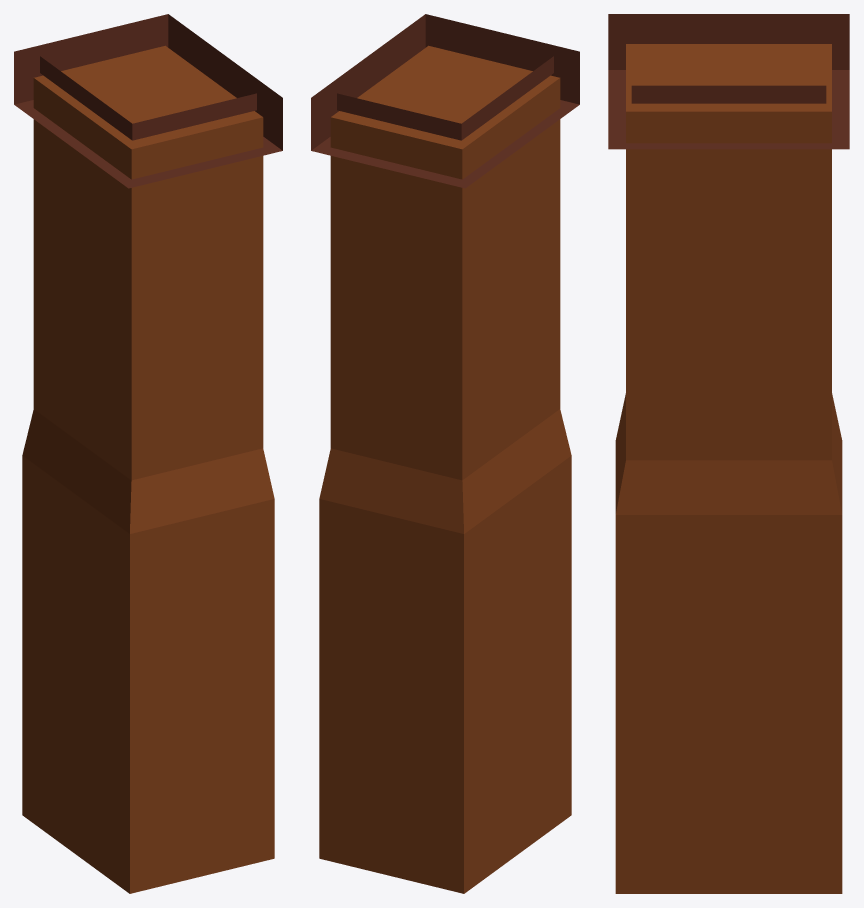
File: korsten.fbx
3 renders of one model, left to right at view 1: azimuth 30°, elevation 25°; view 2: azimuth 150°, elevation 25°; view 3: azimuth 270°, elevation 25°, orthographic. The views are drawn at different scales.
Visible parts, largest first — view 1: Cube.001; view 2: Cube.001; view 3: Cube.001.
Part boxes in pixels (box(x1,y1,x2,y2)): Cube.001: box(14, 14, 282, 893); Cube.001: box(311, 14, 579, 893); Cube.001: box(608, 14, 849, 893).
Size of the model in its own units: 67.65 by 319 by 86.98.
